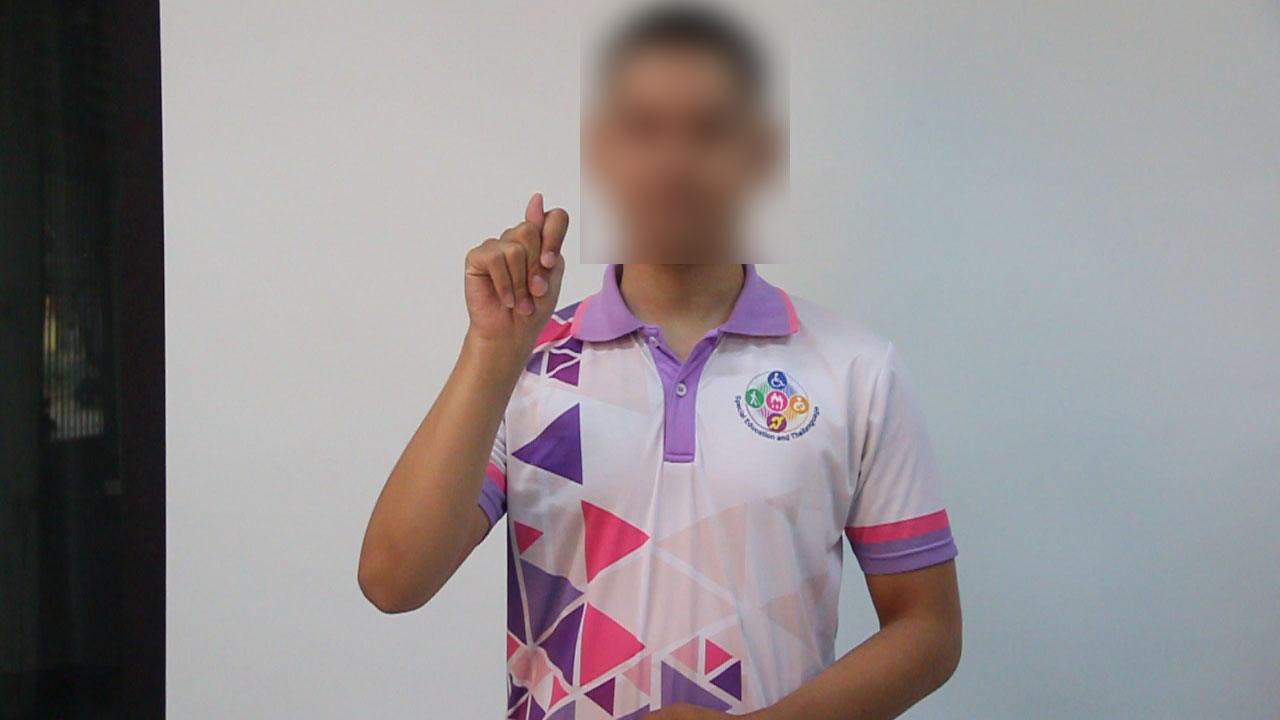tor: (447, 179, 577, 367)
